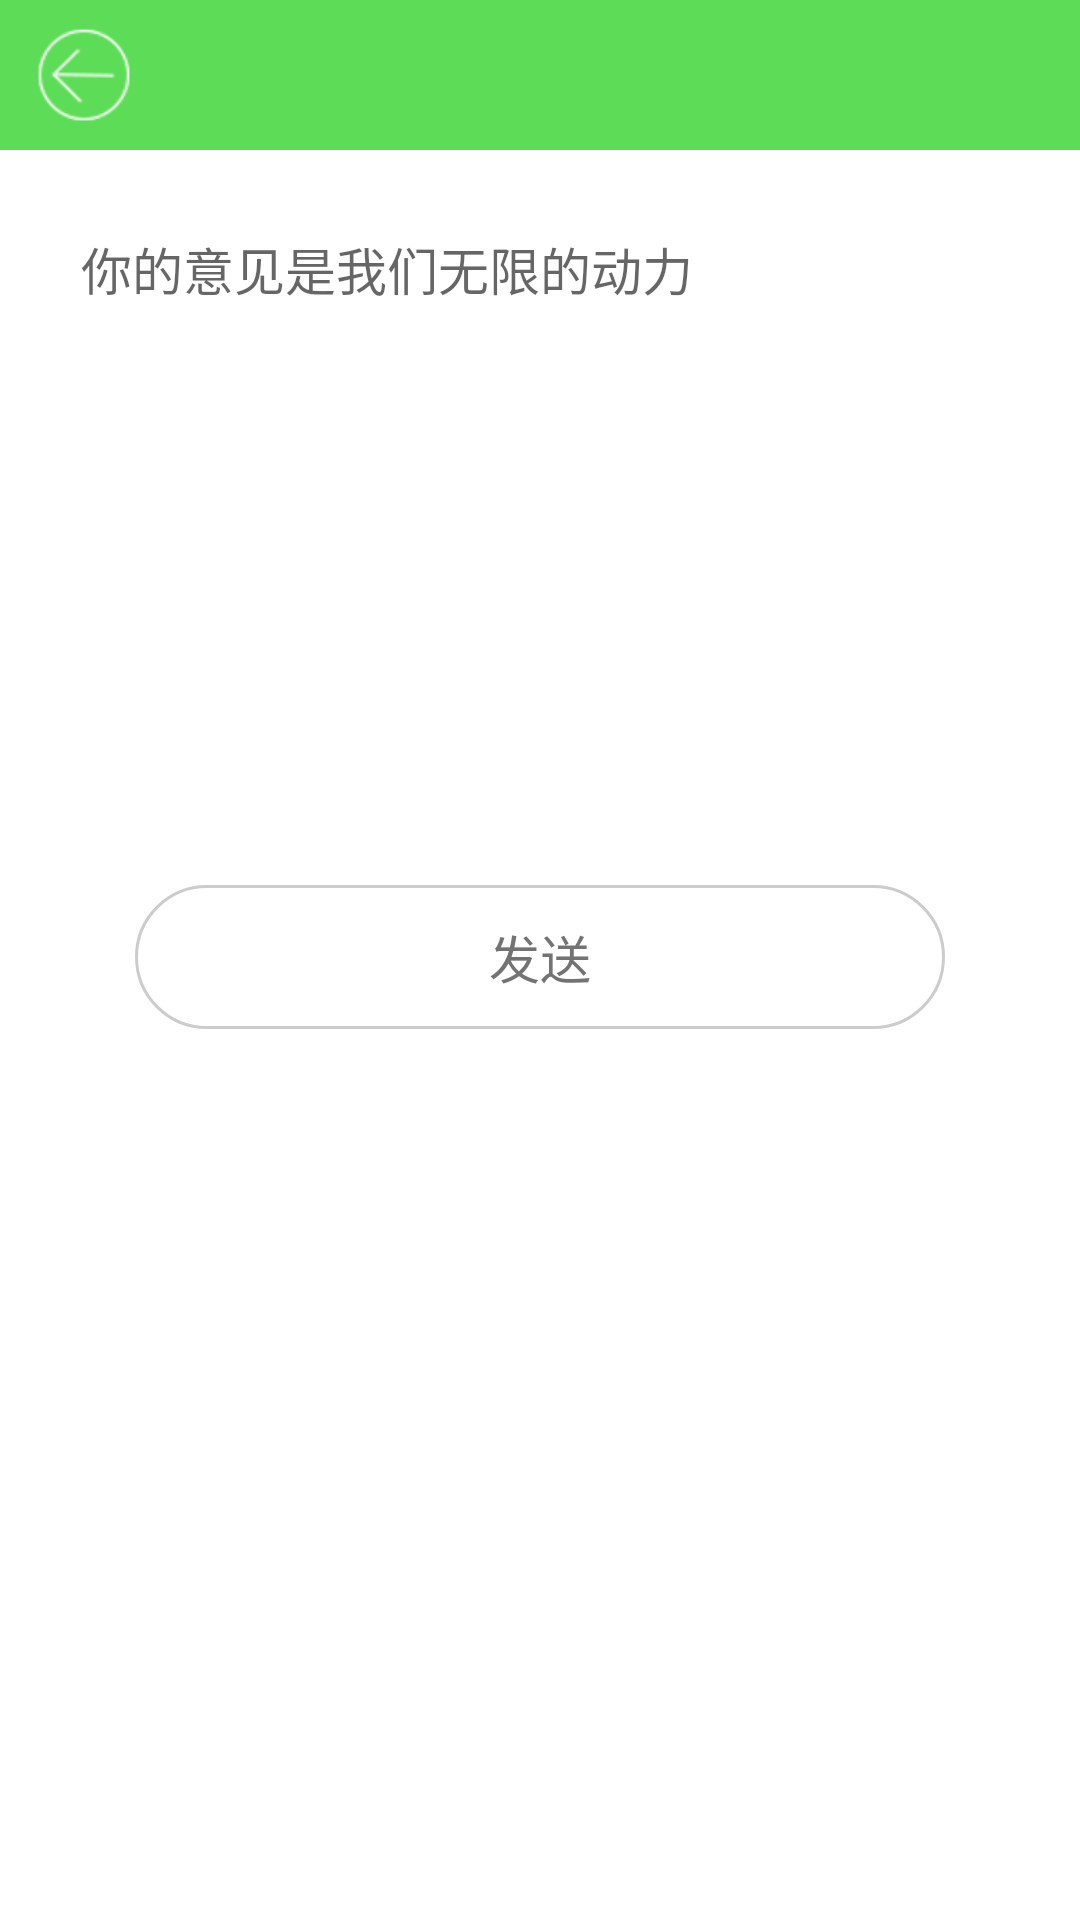

Icons on this 1080 × 1920 Android screen, each with the point to tap as [x,y]:
left: [84,75]
